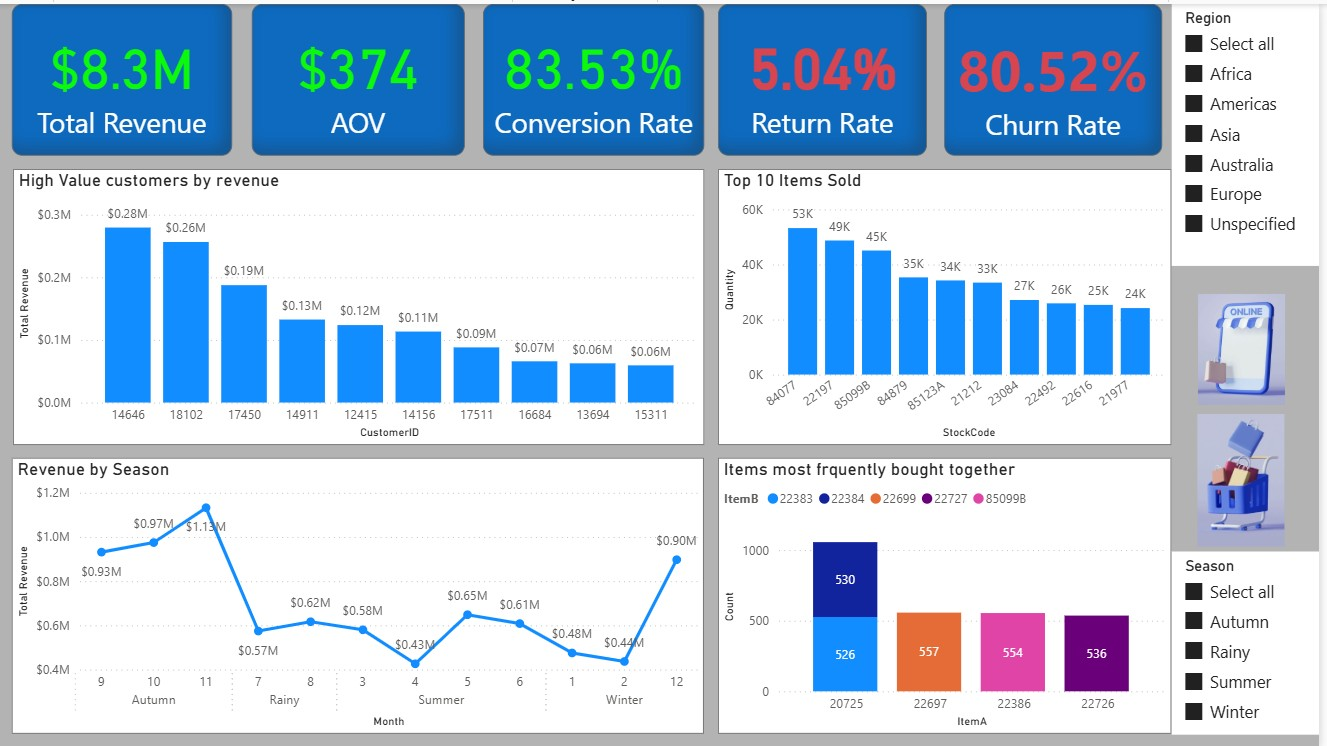

What the dashboard file says about the page in this screenshot:
{"tool":"powerbi","page":{"name":"Dashboard","canvas":[1280,720],"ordinal":0},"visuals":[{"type":"card","fields":{"Values":["Sum(data.total_revenue)"]},"box":[18.3,0,212.8,146.7],"z":0},{"type":"columnChart","title":"High Value customers by revenue","fields":{"Category":["data.CustomerID"],"Y":["Sum(data.total_revenue)"]},"box":[19.3,159.3,667.2,266.6],"z":1000},{"type":"card","fields":{"Values":["data.AOV"]},"box":[249.5,0,205.4,146.7],"z":2000},{"type":"card","fields":{"Values":["data.Return_rate"]},"box":[699.5,0,201.8,146.7],"z":3000},{"type":"card","fields":{"Values":["data.Conversion rate"]},"box":[473.2,0,214,146.7],"z":4000},{"type":"columnChart","title":"Items most frquently bought together","fields":{"Category":["item combinations.ItemA"],"Y":["Sum(item combinations.Count)"],"Series":["item combinations.ItemB"]},"box":[699.7,437.9,437.9,266.6],"z":5000},{"type":"columnChart","title":"Top 10 Items Sold","fields":{"Category":["data.StockCode"],"Y":["Sum(data.Quantity)"]},"box":[699.7,159.3,437.9,266.6],"z":6000},{"type":"slicer","fields":{"Values":["data.Region"]},"box":[1137.2,0,142.8,253],"z":7000},{"type":"slicer","fields":{"Values":["data.Season"]},"box":[1137.2,528.5,142.8,176.6],"z":8000},{"type":"textbox","box":[918.3,0,210.3,146.7],"z":9000},{"type":"lineChart","title":"Revenue by Season","fields":{"Y":["Sum(data.total_revenue)"],"Category":["data.Season","data.Month"]},"box":[18.1,437.9,668.4,266.6],"z":9001},{"type":"image","box":[1158.2,267.8,94.1,131.5],"z":9002},{"type":"image","box":[1128,390.9,152,137.5],"z":9003}]}

Visuals, with their boxes in screenshot pixels (x1, y1, x2, y2), scaled from the page's 1280x720 canvas onto the 1327x746 screenshot:
card - Sum(data.total_revenue): l=19, t=0, r=240, b=152
"High Value customers by revenue" columnChart: l=20, t=165, r=712, b=441
card - data.AOV: l=259, t=0, r=472, b=152
card - data.Return_rate: l=725, t=0, r=934, b=152
card - data.Conversion rate: l=491, t=0, r=712, b=152
"Items most frquently bought together" columnChart: l=725, t=454, r=1179, b=730
"Top 10 Items Sold" columnChart: l=725, t=165, r=1179, b=441
slicer - data.Region: l=1179, t=0, r=1326, b=262
slicer - data.Season: l=1179, t=548, r=1326, b=731
textbox: l=952, t=0, r=1170, b=152
"Revenue by Season" lineChart: l=19, t=454, r=712, b=730
image: l=1201, t=277, r=1298, b=414
image: l=1169, t=405, r=1326, b=547
